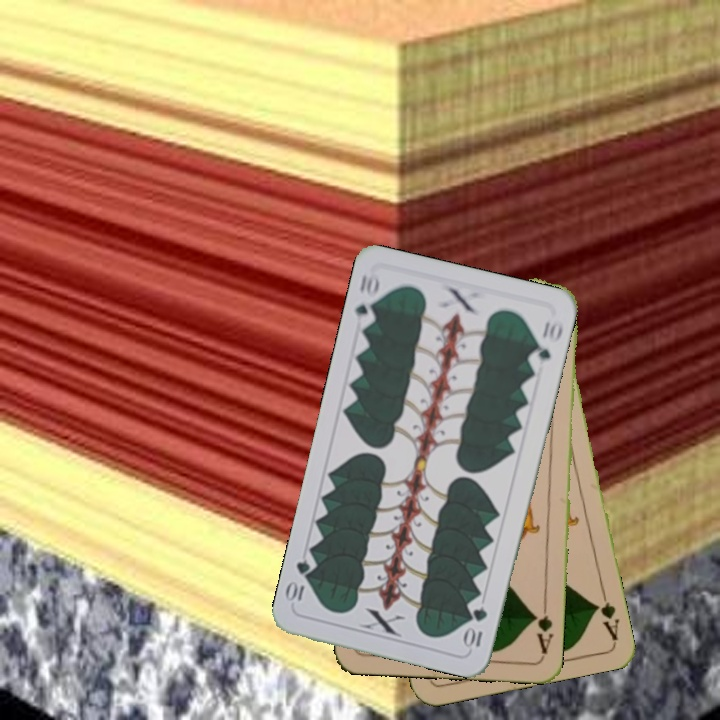G10: (351, 269, 383, 329), (461, 602, 490, 652)
GA: (590, 584, 622, 643), (529, 598, 556, 657)
